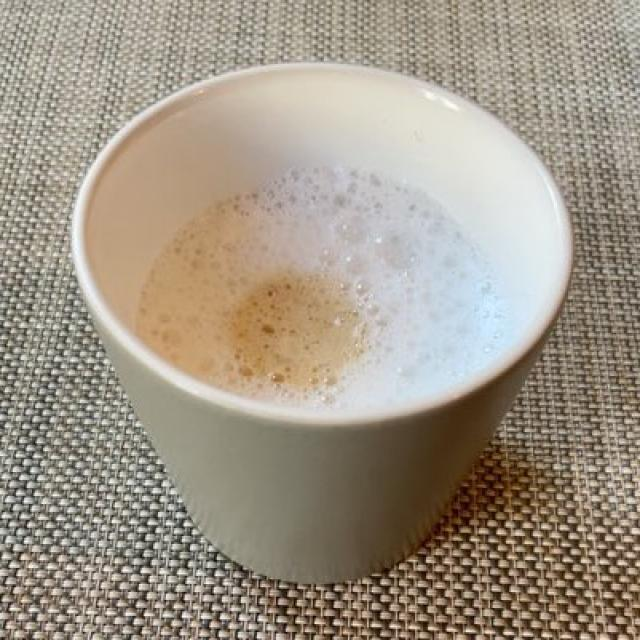cappuccino: (141, 170, 500, 404)
